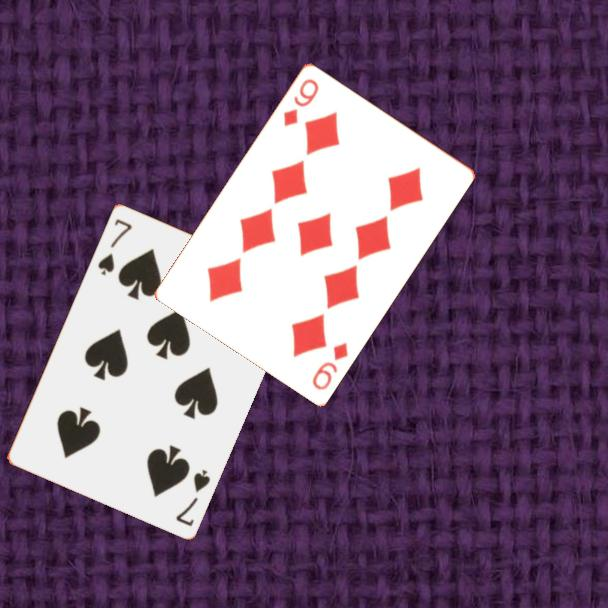d09: (308, 338, 351, 393), (280, 75, 322, 129)
s07: (94, 215, 135, 278), (172, 466, 213, 529)
